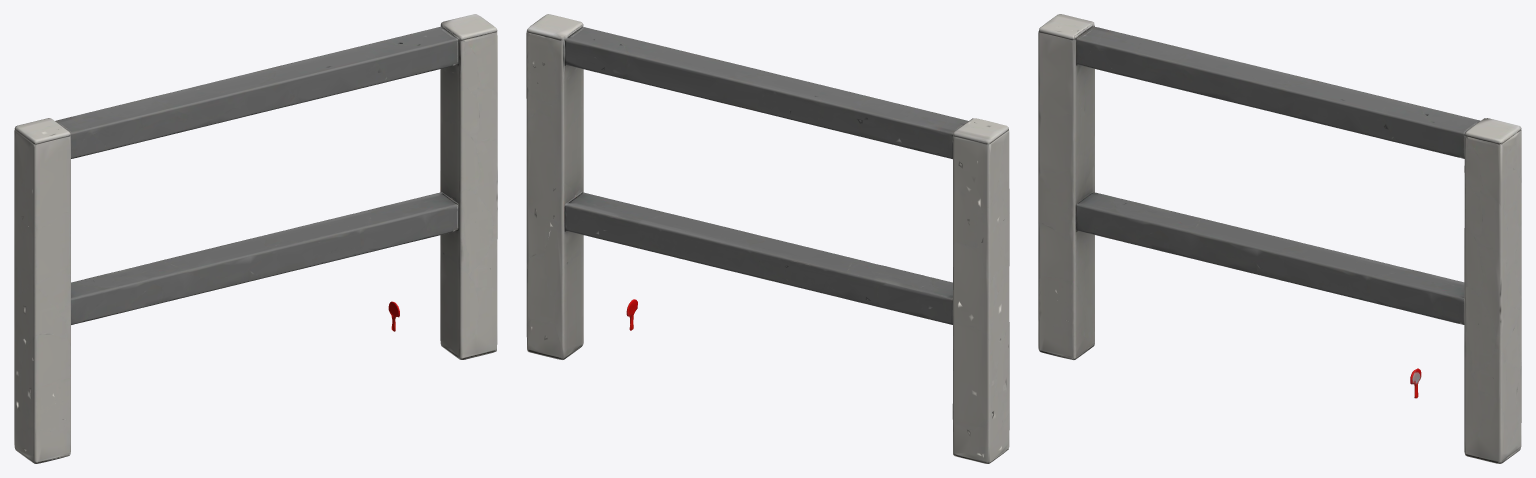
The model's file is model-26-railing.glb.
3 renders of one model, left to right at view 1: azimuth 30°, elevation 25°; view 2: azimuth 150°, elevation 25°; view 3: azimuth 330°, elevation 25°, orthographic.
Visible parts, largest first — view 1: node_0; view 2: node_0; view 3: node_0.
Boxes of the visible parts, x1,y1,x2,y2 form: node_0: [14, 14, 497, 463]; node_0: [526, 14, 1009, 463]; node_0: [1038, 14, 1521, 463].
Size of the model in its own units: 0.9997 by 0.6687 by 0.0795.
Materials: 1 (1 with a texture image).
